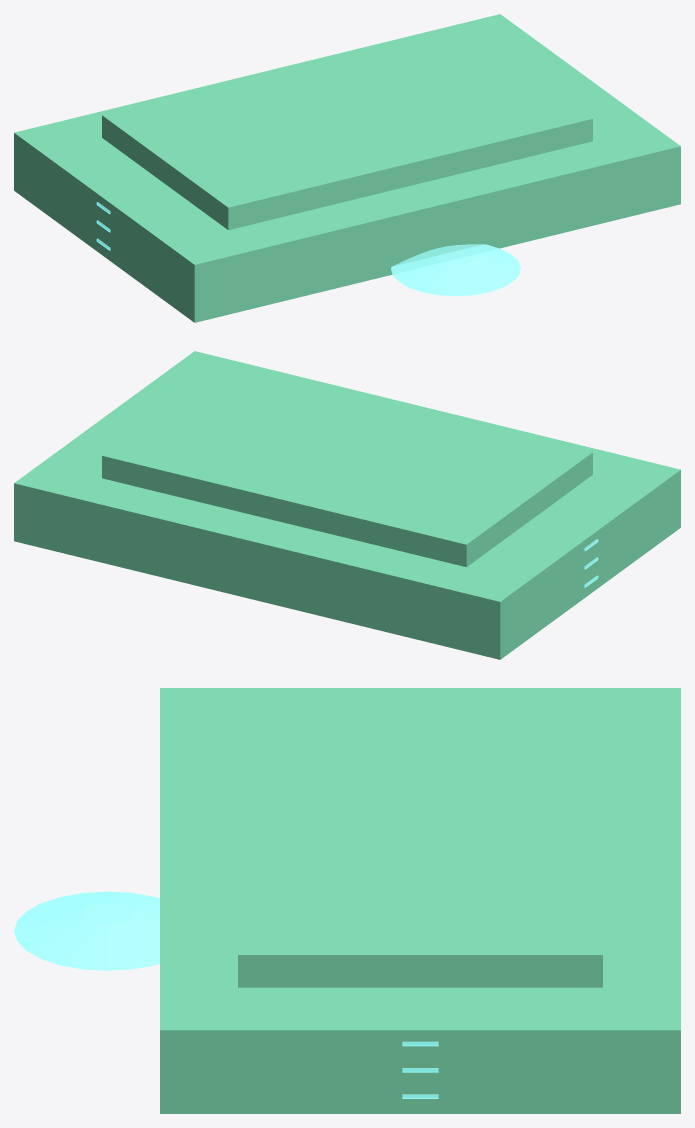
File: vital_helix_bio_research_lab.glb
The picture shows the model from 3 angles, top to bottom: view 1: azimuth 30°, elevation 25°; view 2: azimuth 150°, elevation 25°; view 3: azimuth 270°, elevation 25°; orthographic projection. The views are drawn at different scales.
Parts seen in each view (by area): view 1: vital_helix_bio_research_lab; view 2: vital_helix_bio_research_lab; view 3: vital_helix_bio_research_lab.
Boxes of the visible parts, box(x1,y1,x2,y2) form: vital_helix_bio_research_lab: box(14, 14, 680, 322); vital_helix_bio_research_lab: box(14, 351, 680, 659); vital_helix_bio_research_lab: box(14, 688, 680, 1113).
Size of the model in its own units: 85.73 by 13.5 by 70.27.
